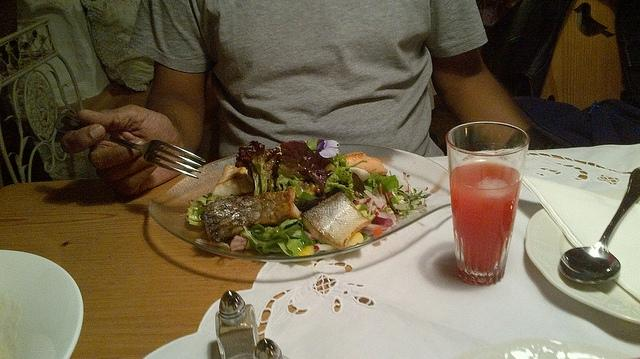lettuce: (324, 152, 368, 202), (235, 140, 265, 197), (252, 148, 282, 193), (286, 171, 320, 208), (251, 223, 302, 242), (375, 175, 400, 205), (255, 237, 292, 256), (364, 168, 388, 194), (278, 163, 304, 180), (187, 204, 200, 225), (359, 210, 376, 222), (334, 153, 346, 162)
